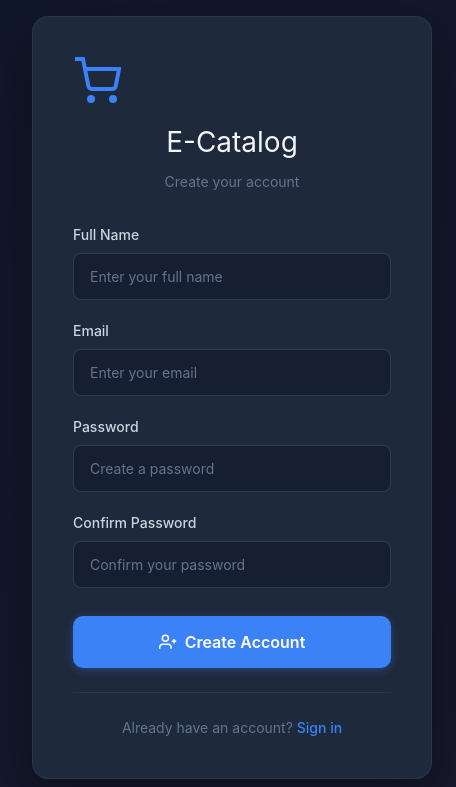
Authentication Flow Integration Tests › TC2: Registration Flow › TC2.3: should enforce minimum password length
Type "Test User" into the field labelled "Full Name" at [232, 276], box [73,253,391,300]
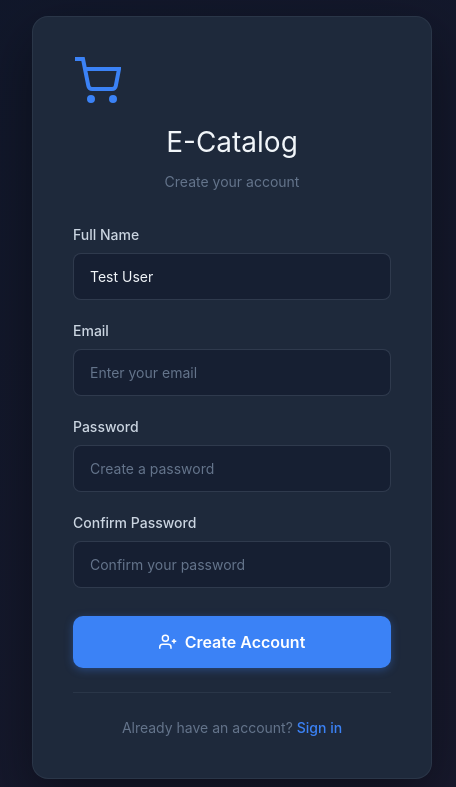
Type "test@test.com" into the field labelled "Email" at [232, 372], box [73,349,391,396]
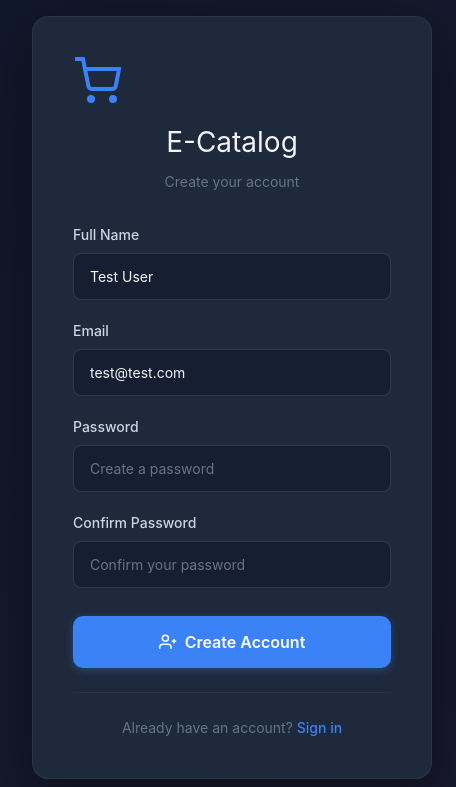
Type "12345" into the password field labelled "Password" at [232, 468], box [73,445,391,492]
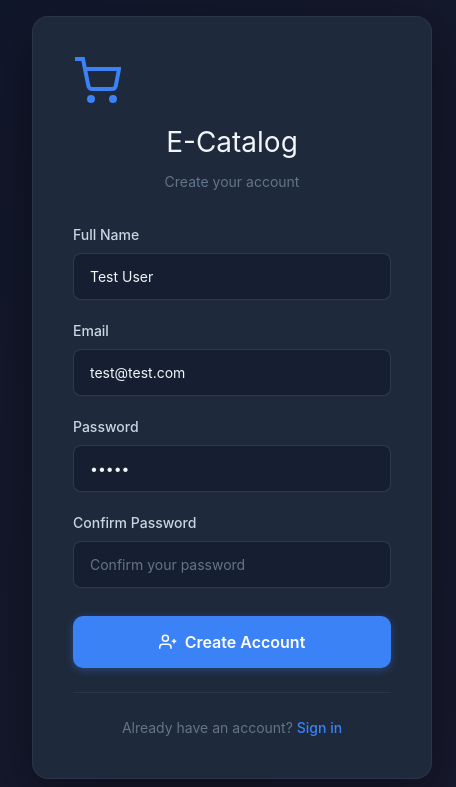
Type "12345" into the password field labelled "Confirm Password" at [232, 564], box [73,541,391,588]
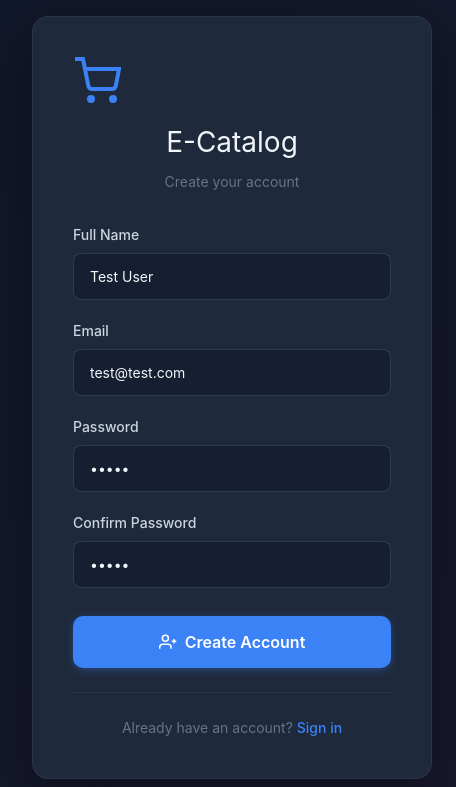
Click the button "Create Account" at [232, 642], box [73,616,391,668]
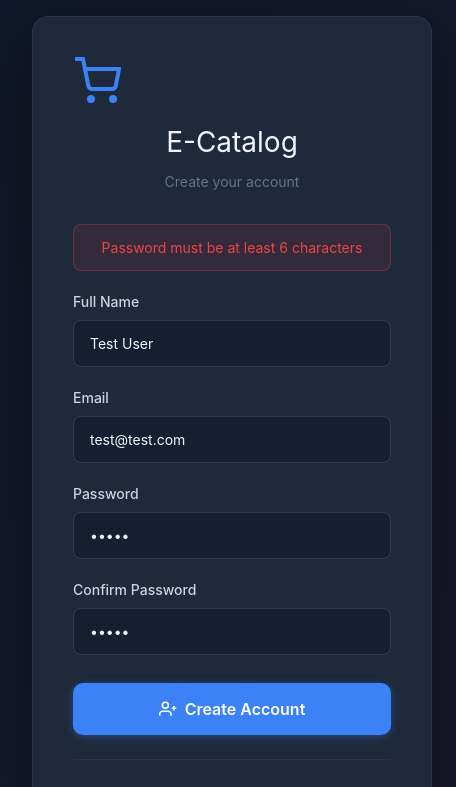
Result: the text "Password must be at least 6 characters" is shown at [73,224,391,271]
